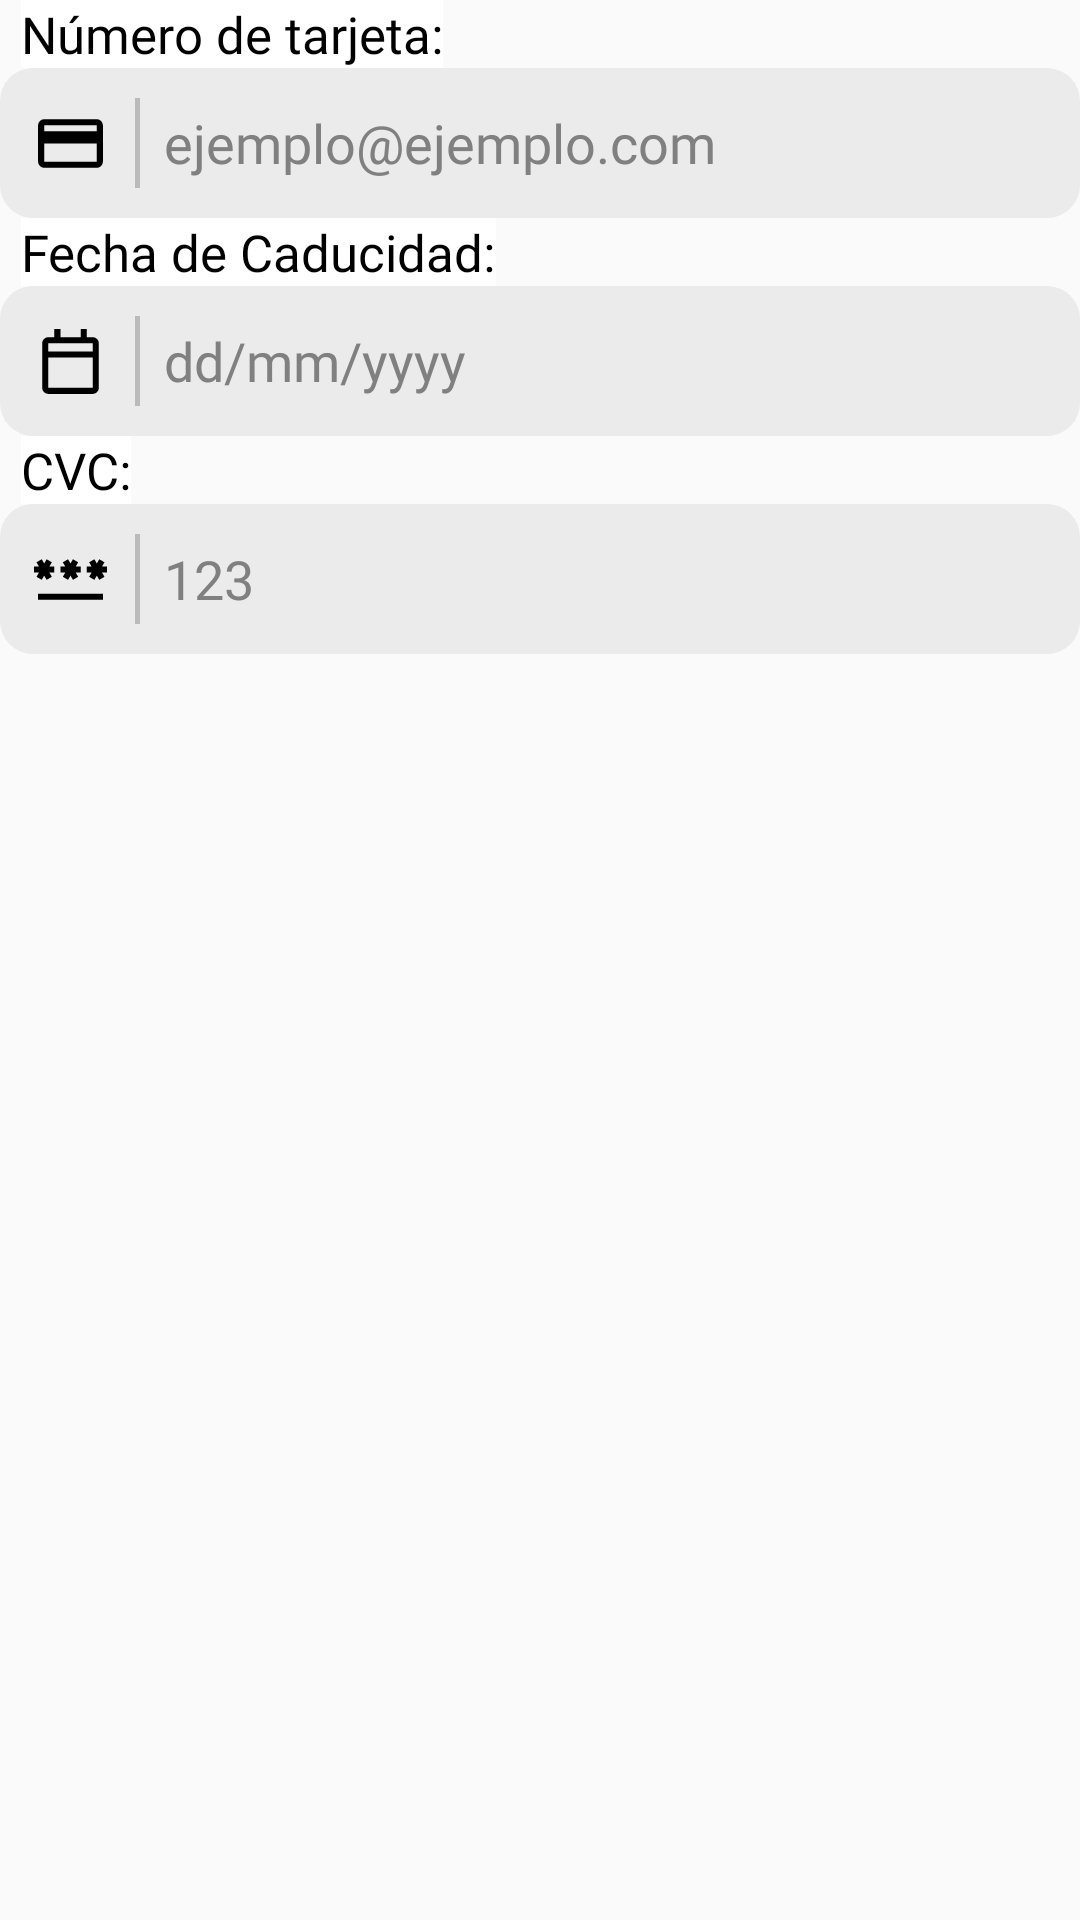

Where to tap for icons on this 1080px×1920px app screen, as point (x, y):
calendario: point (70, 361)
credit card: point (70, 143)
three dot pin: point (70, 579)
